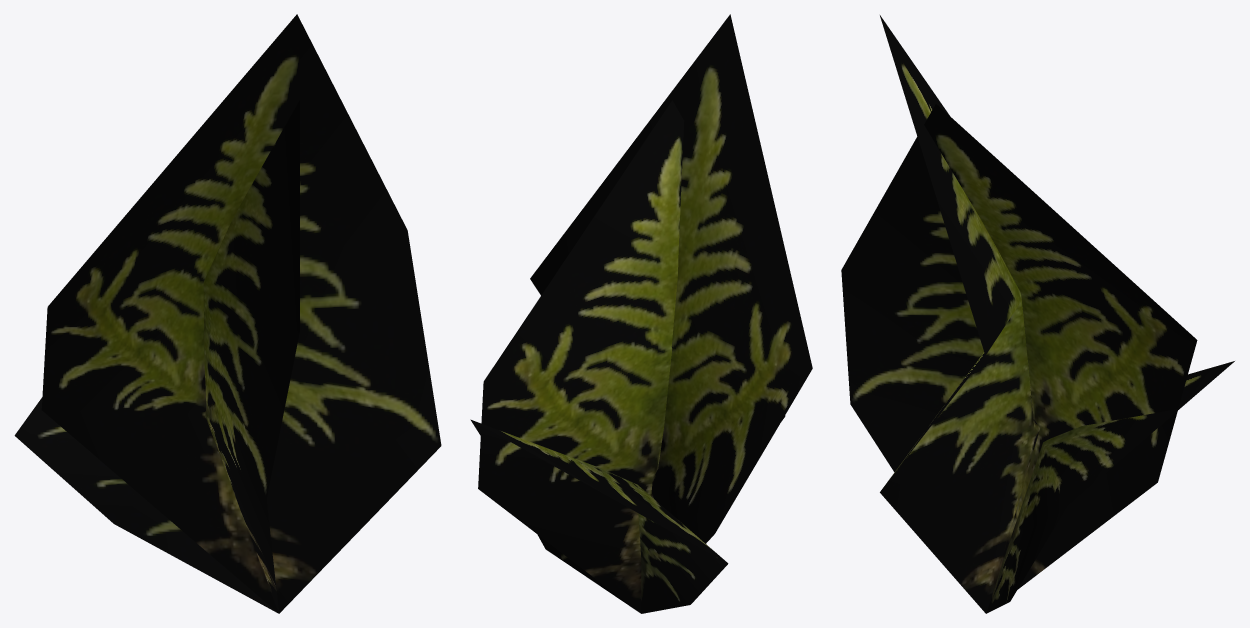
3 renders of one model, left to right at view 1: azimuth 30°, elevation 25°; view 2: azimuth 150°, elevation 25°; view 3: azimuth 270°, elevation 25°, orthographic. The views are drawn at different scales.
Visible parts, largest first — view 1: moss_01_a_LOD0; view 2: moss_01_a_LOD0; view 3: moss_01_a_LOD0.
Part boxes in pixels (bbox=[...]): moss_01_a_LOD0: bbox=[14, 14, 441, 613]; moss_01_a_LOD0: bbox=[470, 14, 812, 613]; moss_01_a_LOD0: bbox=[841, 15, 1234, 613].
Size of the model in its own units: 0.0142 by 0.026 by 0.0159.
1 material, 1 textured.
